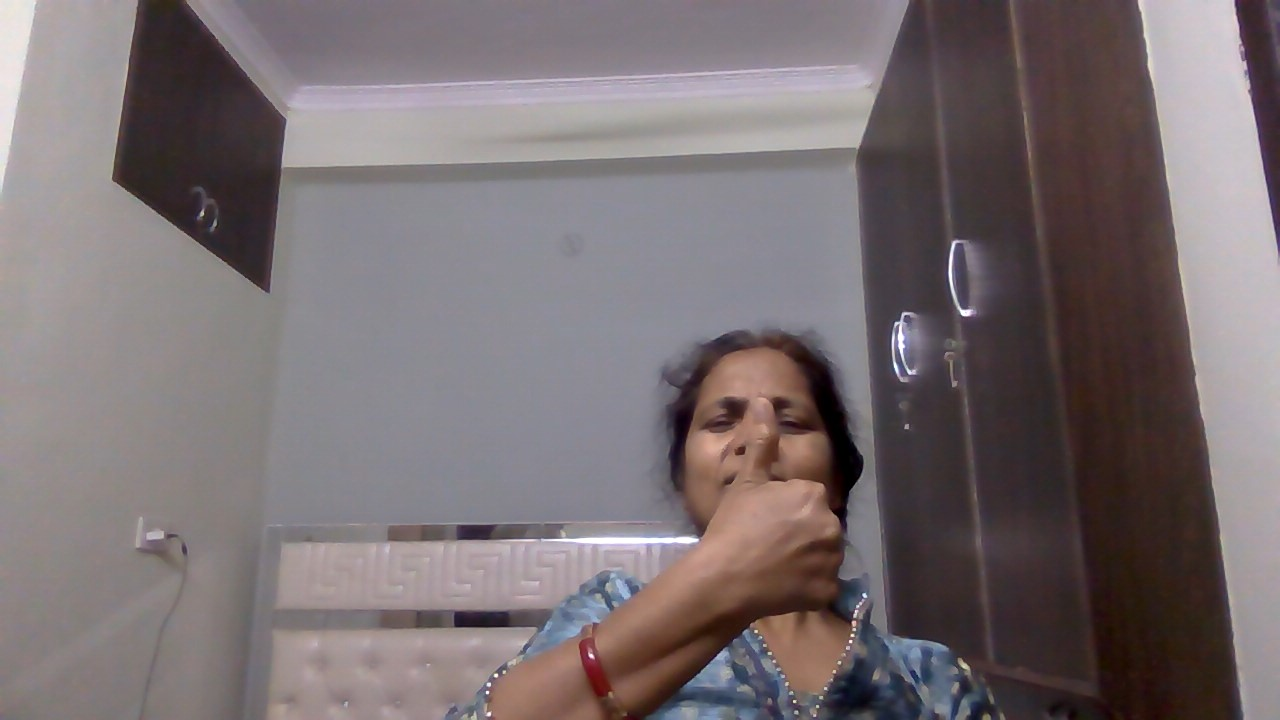Save: (704, 391, 856, 628)
